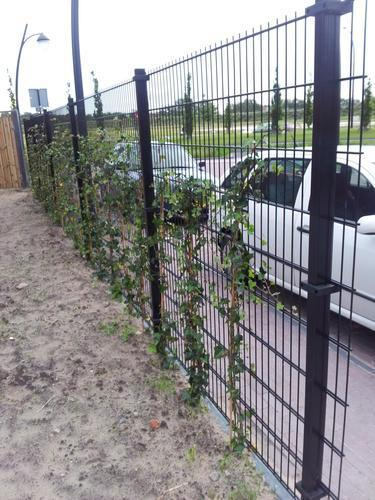obstacle: (127, 0, 375, 498)
